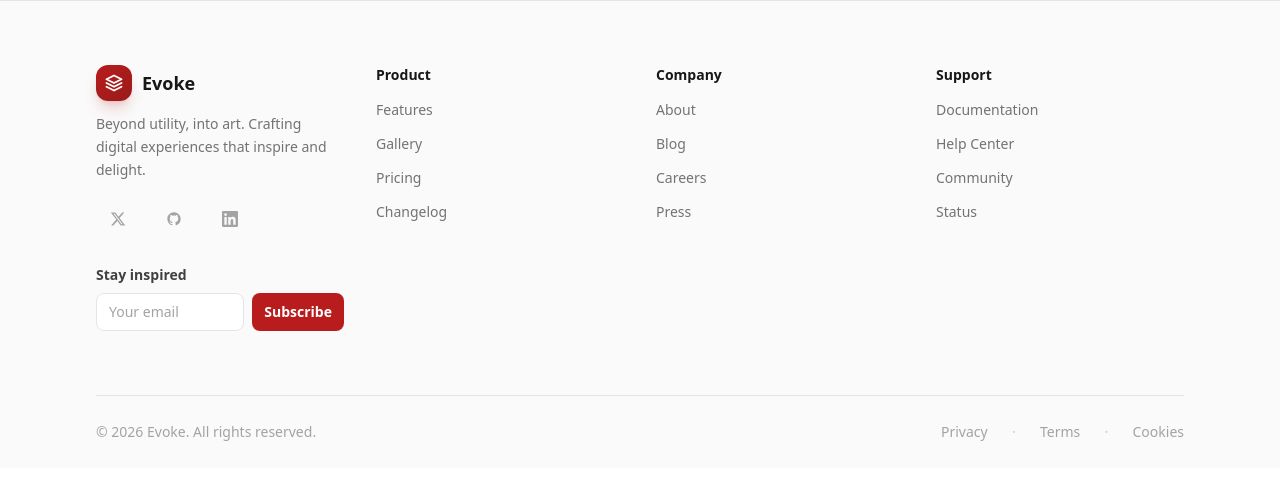
Test: Footer › shows error message when newsletter subscription fails
This screenshot has width=1280, height=480.
Type "test@example.com" into the field named "Email address for newsletter" at (170, 312), box [96,293,244,331]
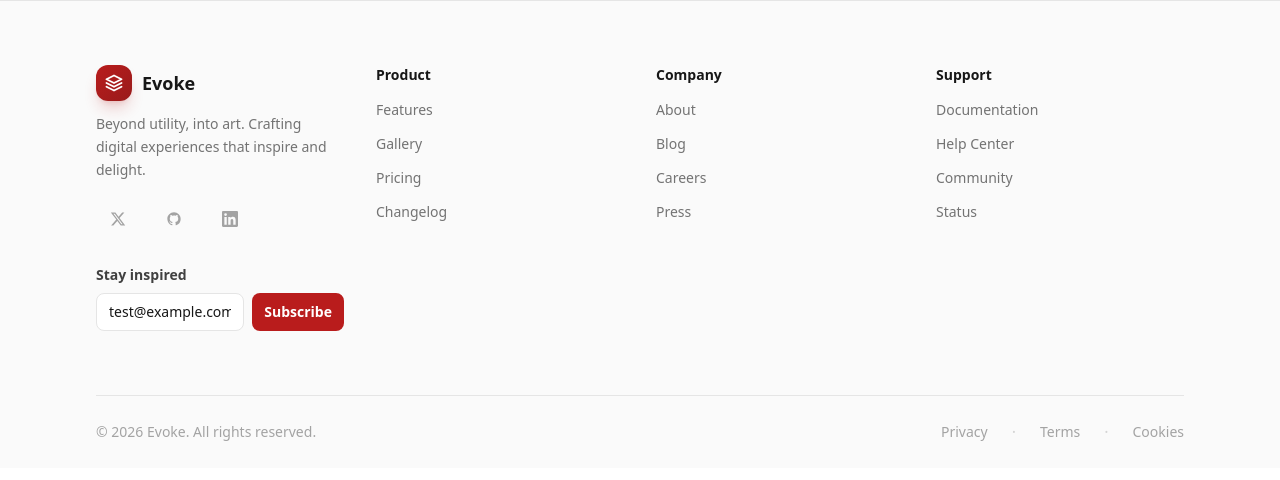
Click the button with aria-label "Subscribe to newsletter" at (298, 312), box [252,293,344,331]
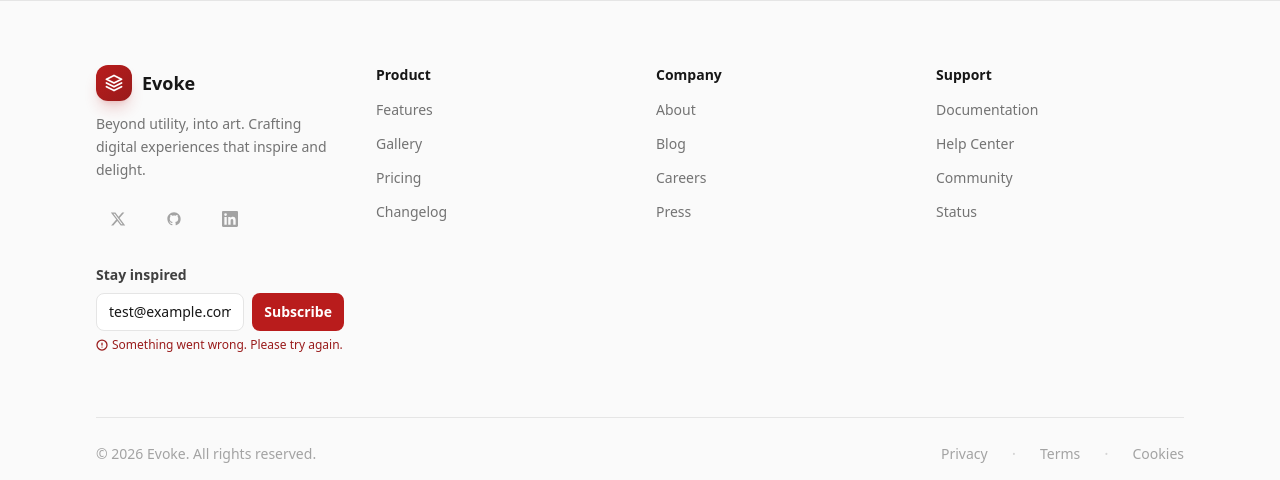
Expected: the message "Something went wrong. Please try again." is shown, [96,337,344,353]
Expected: the message shows "try again", [112,336,343,353]
